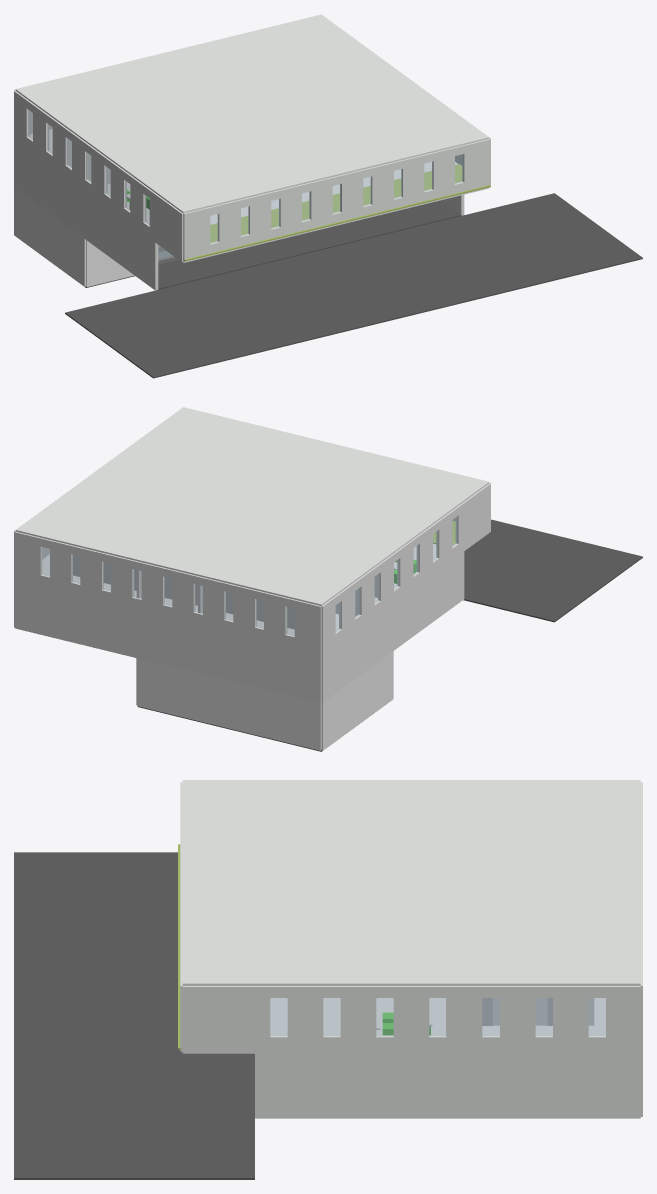
Rendered from SL_Gebaeude_Unity.fbx.
The picture shows the model from 3 angles, top to bottom: view 1: azimuth 30°, elevation 25°; view 2: azimuth 150°, elevation 25°; view 3: azimuth 270°, elevation 25°; orthographic projection. The views are drawn at different scales.
Parts seen in each view (by area): view 1: Roof, Vorplatz, EG_Wall_Left, EG_Boden_R, K_Left, F_bot, F_top, GreenSoffit, L_bot, L_top, K_Front, L_pil_0 (+11 smaller); view 2: Roof, EG_Back, Vorplatz, K_Back, EG_Wall_Left, B_bot, K_Left, B_top, L_bot, L_top, L_pil_0, B_pil_9 (+14 smaller); view 3: Roof, Vorplatz, EG_Wall_Right, R_bot, R_top, R_pil_0, OG_Floor_R, R_pil_1, R_pil_2, R_pil_3, R_pil_4, R_pil_5 (+12 smaller).
Boxes of the visible parts, bbox=[...] form: Roof: bbox=[15, 14, 489, 213]; Vorplatz: bbox=[65, 193, 642, 378]; EG_Wall_Left: bbox=[14, 139, 158, 290]; EG_Boden_R: bbox=[163, 200, 461, 282]; K_Left: bbox=[14, 187, 86, 286]; F_bot: bbox=[183, 176, 490, 262]; F_top: bbox=[183, 139, 490, 221]; GreenSoffit: bbox=[183, 164, 490, 261]; L_bot: bbox=[14, 128, 183, 261]; L_top: bbox=[14, 90, 183, 221]; K_Front: bbox=[86, 240, 134, 286]; L_pil_0: bbox=[149, 199, 183, 250]; Roof: bbox=[15, 407, 489, 605]; EG_Back: bbox=[14, 580, 321, 702]; Vorplatz: bbox=[463, 519, 642, 622]; K_Back: bbox=[137, 658, 321, 750]; EG_Wall_Left: bbox=[321, 551, 464, 702]; B_bot: bbox=[14, 569, 321, 654]; K_Left: bbox=[321, 651, 393, 750]; B_top: bbox=[14, 531, 321, 614]; L_bot: bbox=[321, 521, 490, 654]; L_top: bbox=[321, 483, 490, 614]; L_pil_0: bbox=[455, 492, 490, 543]; B_pil_9: bbox=[14, 540, 42, 575]; Roof: bbox=[182, 780, 640, 985]; Vorplatz: bbox=[14, 852, 254, 1179]; EG_Wall_Right: bbox=[255, 1052, 640, 1117]; R_bot: bbox=[182, 1035, 640, 1052]; R_top: bbox=[182, 986, 640, 997]; R_pil_0: bbox=[182, 998, 270, 1037]; OG_Floor_R: bbox=[182, 998, 605, 1053]; R_pil_1: bbox=[287, 998, 323, 1037]; R_pil_2: bbox=[340, 998, 376, 1037]; R_pil_3: bbox=[393, 998, 429, 1037]; R_pil_4: bbox=[446, 998, 482, 1037]; R_pil_5: bbox=[500, 998, 535, 1037].
Size of the model in its own units: 16 by 4.6 by 13.05.
